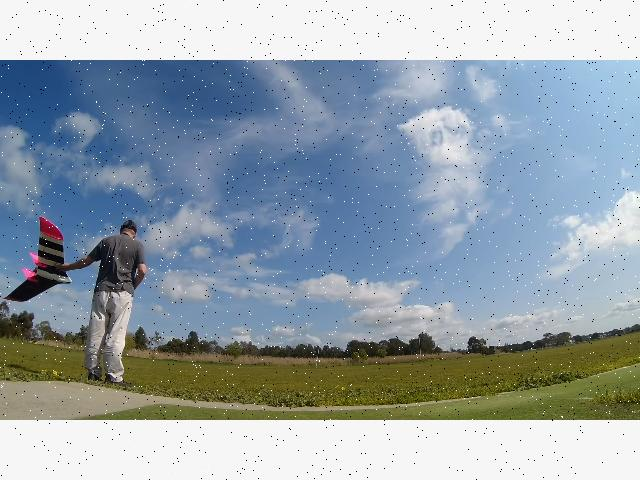Anti-Drone: (0, 206, 84, 322)
